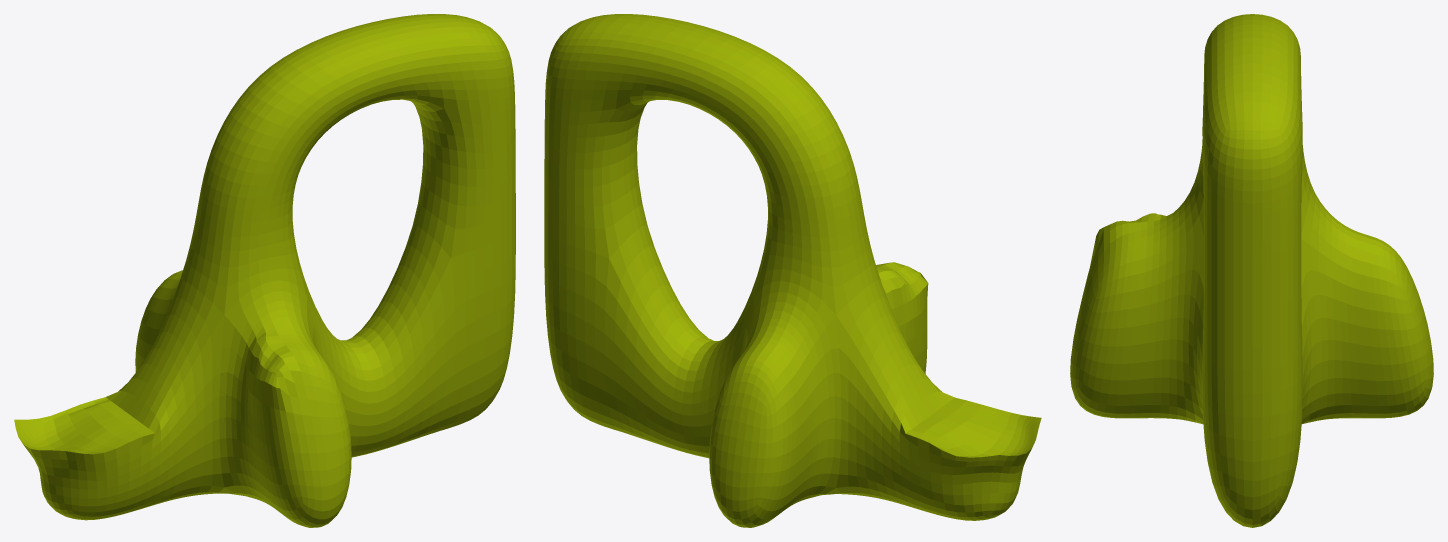
The model's file is LineTest3.glb.
The picture shows the model from 3 angles, left to right: view 1: azimuth 30°, elevation 25°; view 2: azimuth 150°, elevation 25°; view 3: azimuth 270°, elevation 25°; orthographic projection. The views are drawn at different scales.
Visible parts, largest first — view 1: Cube; view 2: Cube; view 3: Cube.
Boxes of the visible parts, x1,y1,x2,y2 form: Cube: (14,14,515,527); Cube: (544,14,1041,527); Cube: (1070,14,1433,527).
Size of the model in its own units: 11.2 by 9.4 by 6.9.
